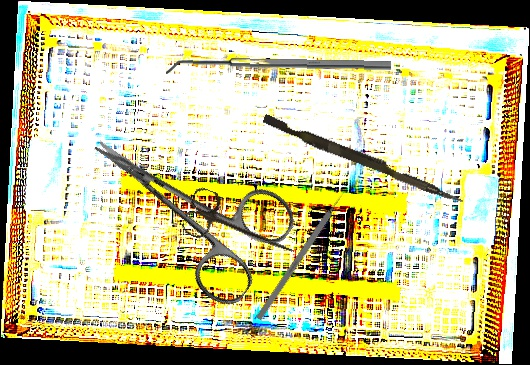Hook Surgical: (255, 186, 350, 321)
Iris Scissors: (63, 91, 304, 313), (179, 185, 303, 272)
Pusher: (260, 113, 467, 206)
Spatula Surgical: (165, 57, 392, 78)
